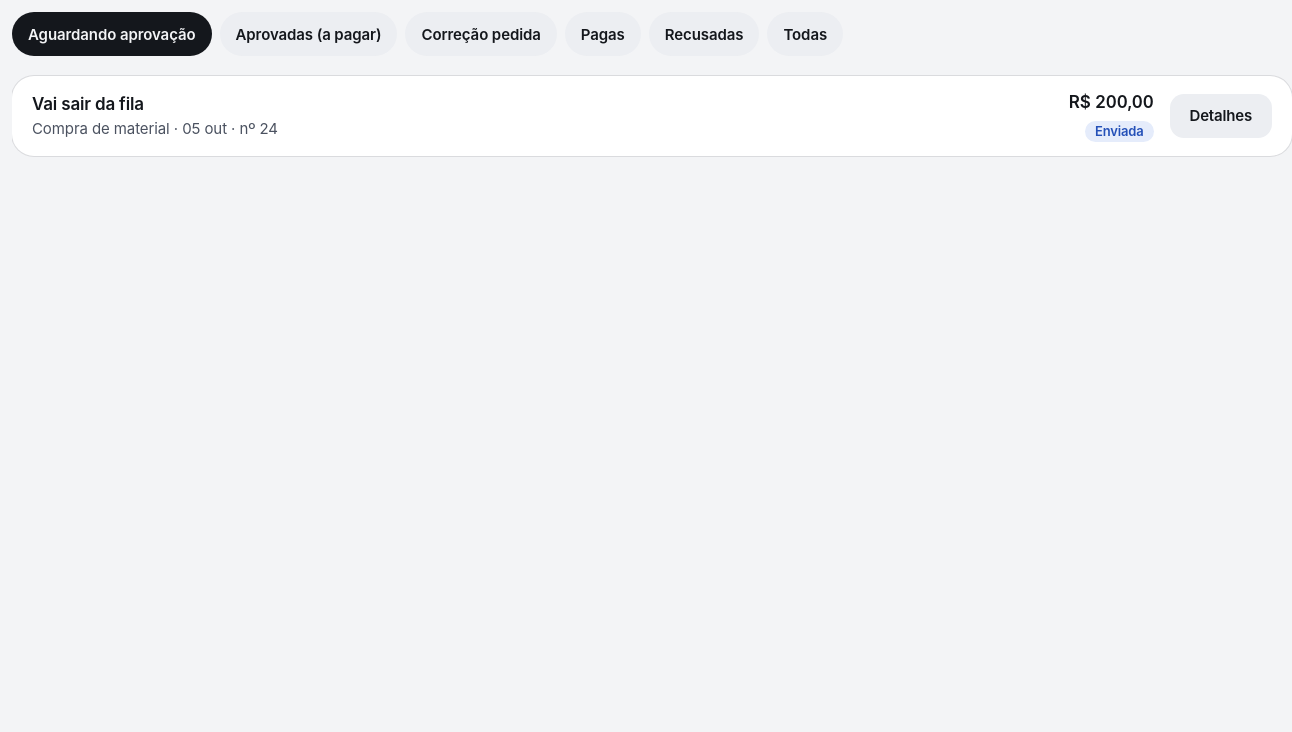
Test: Fila da gestao › depois de uma acao a despesa pode sair do filtro: a mensagem fica na lista (nao se perde com o painel)
What coordinates should you click on to do the following:
click the button with aria-label "Abrir detalhes"
I would click on:
 (1221, 116)
Its box is [1170, 94, 1272, 138].
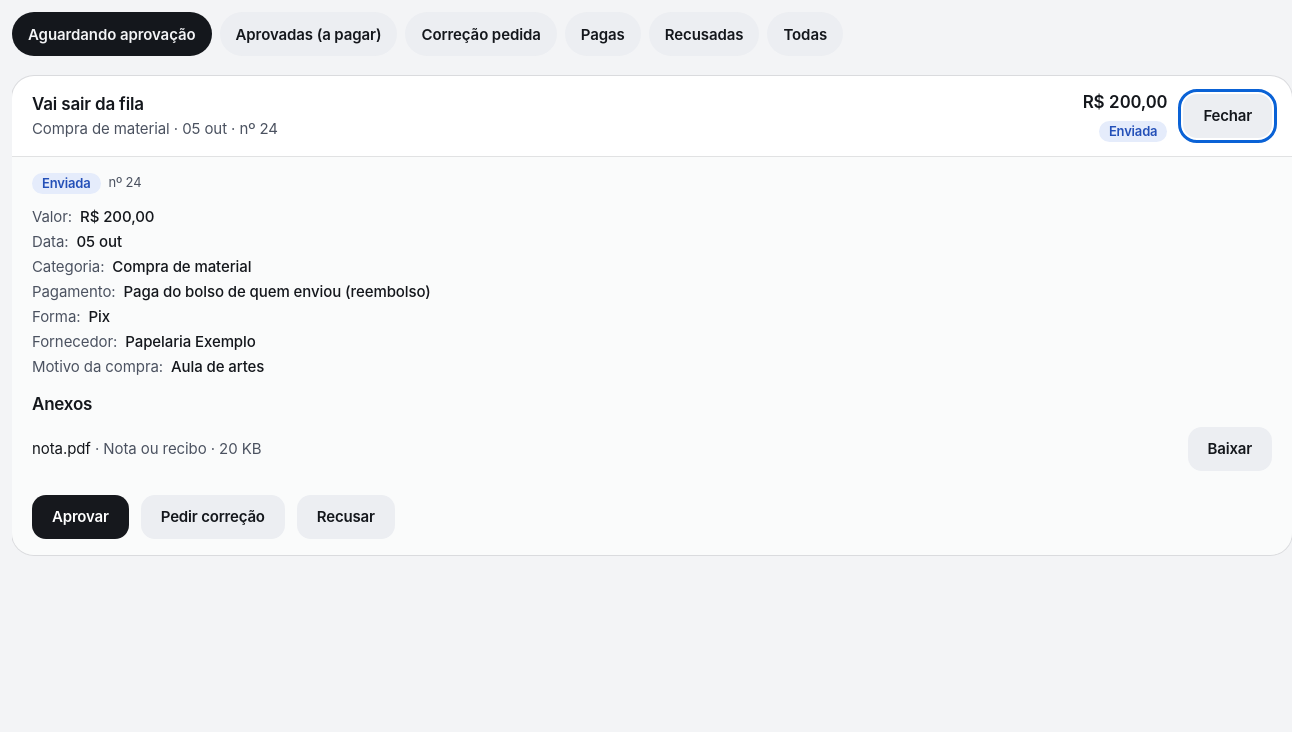
What coordinates should you click on to do the following:
click the button "Aprovar"
I would click on:
 (80, 517)
Its box is [32, 495, 129, 539].
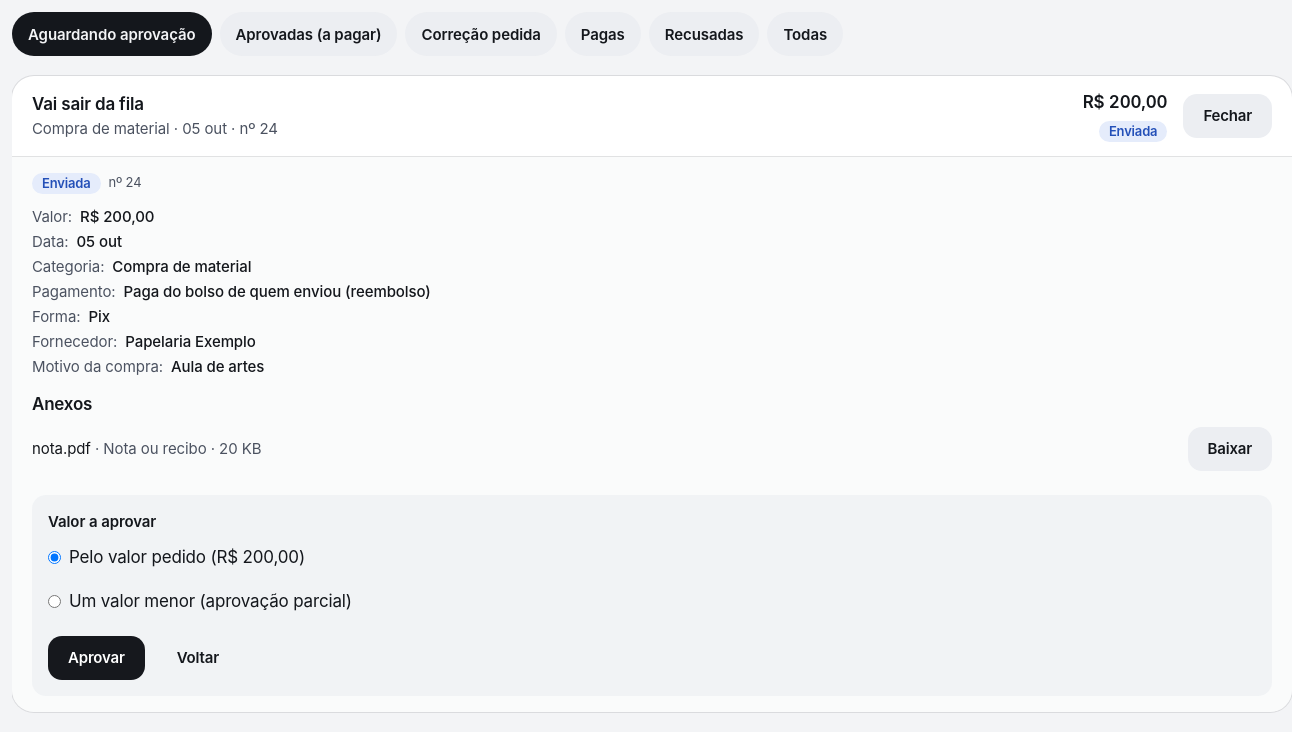
What coordinates should you click on to do the following:
click the button "Aprovar"
I would click on:
 (96, 658)
Its box is [48, 636, 145, 680].
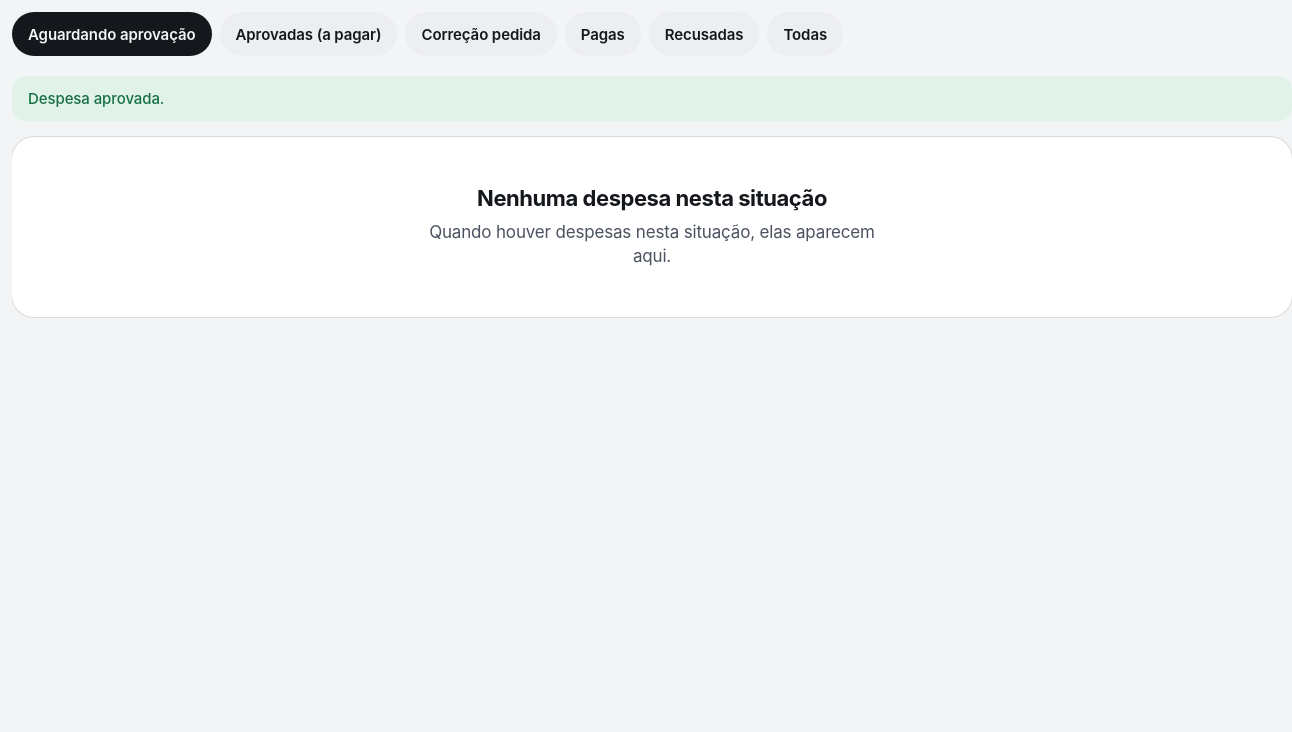
Now the text "Vai sair da fila" is gone
Now the text "Despesa aprovada." is shown, box [12, 76, 1291, 121]
